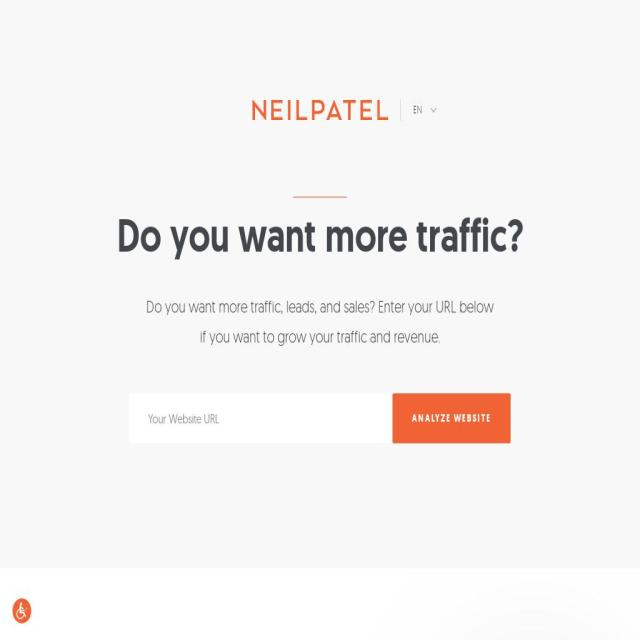button: (252, 100, 388, 120), (399, 99, 436, 121), (13, 598, 32, 624)
field: (129, 394, 393, 444), (392, 394, 510, 444)
heading: (6, 212, 634, 258)
image: (252, 100, 388, 121), (16, 603, 28, 619)
text: (146, 296, 494, 316), (200, 326, 440, 346)
